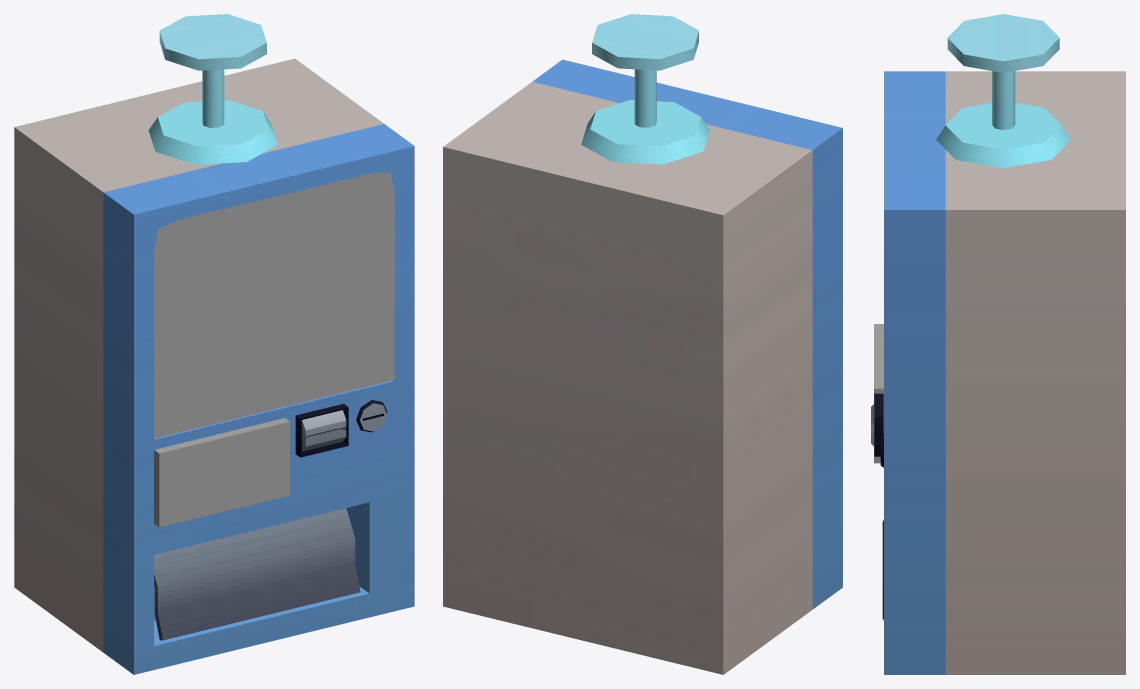
File: VendingMachine.fbx
3 renders of one model, left to right at view 1: azimuth 30°, elevation 25°; view 2: azimuth 150°, elevation 25°; view 3: azimuth 270°, elevation 25°, orthographic.
Parts seen in each view (by area): view 1: polySurface52, pasted__polySurface51, pCube31, pCube32, pCube30, pCylinder24; view 2: polySurface52; view 3: polySurface52, pCube32, pCube30.
Part boxes in pixels (x1=…): polySurface52: x1=14, y1=14, x2=414, y2=674; pasted__polySurface51: x1=154, y1=171, x2=395, y2=438; pCube31: x1=154, y1=508, x2=360, y2=640; pCube32: x1=154, y1=418, x2=289, y2=527; pCube30: x1=295, y1=403, x2=348, y2=457; pCylinder24: x1=356, y1=400, x2=387, y2=432; polySurface52: x1=443, y1=14, x2=842, y2=674; polySurface52: x1=884, y1=14, x2=1125, y2=674; pCube32: x1=874, y1=324, x2=883, y2=463; pCube30: x1=871, y1=393, x2=883, y2=456.
Size of the model in its own units: 91.48 by 175 by 71.13.
